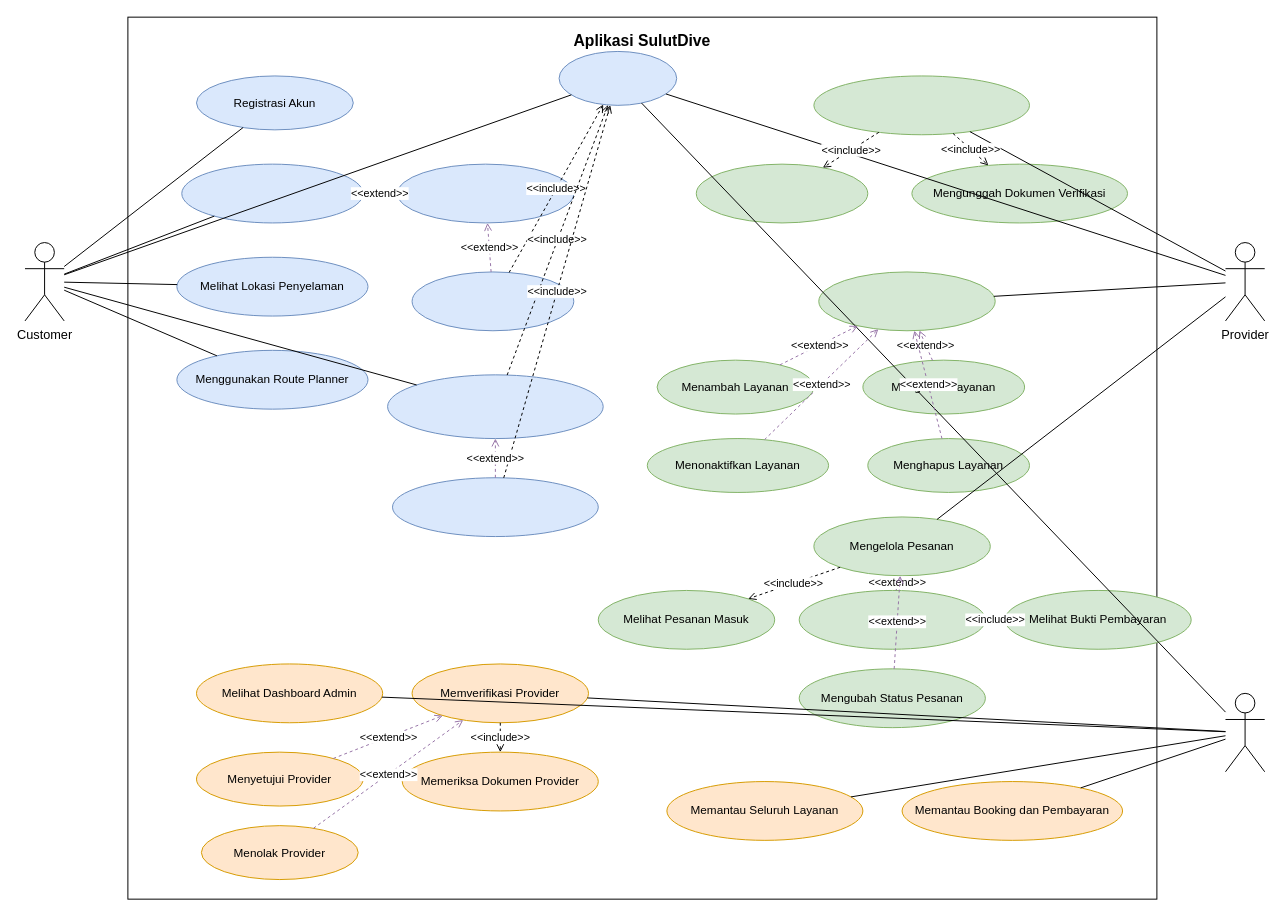
Image size: 1285x916. Some labels were removed from this diagram. The centre of each missing label's shape, as x and y in pixels:
"Admin" belongs at (x=1245, y=732).
"Login" belongs at (x=617, y=77).
"Melakukan Booking" belongs at (x=492, y=301).
"Melihat Detail Layanan" belongs at (x=485, y=193).
"Melihat Katalog Layanan" belongs at (x=272, y=193).
"Melihat Status Booking dan Pembayaran" belongs at (x=495, y=406).
"Memverifikasi Pembayaran" belongs at (x=891, y=619).
"Mengajukan Onboarding Provider" belongs at (x=921, y=105).
"Mengelola Layanan" belongs at (x=906, y=301).
"Mengisi Profil Bisnis" belongs at (x=781, y=193).
"Mengunggah Bukti Pembayaran" belongs at (x=495, y=507).
